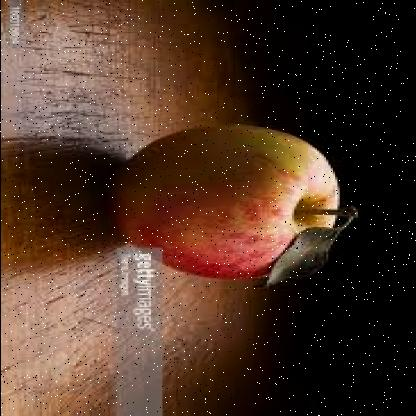apple: (116, 121, 339, 281)
